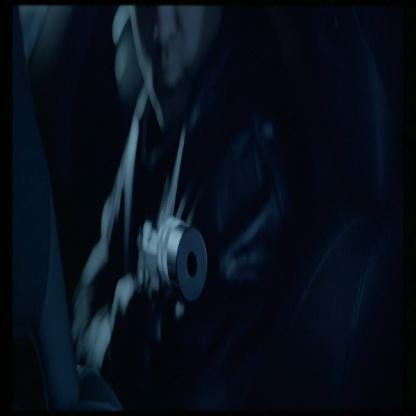Gun: (129, 214, 211, 376)
